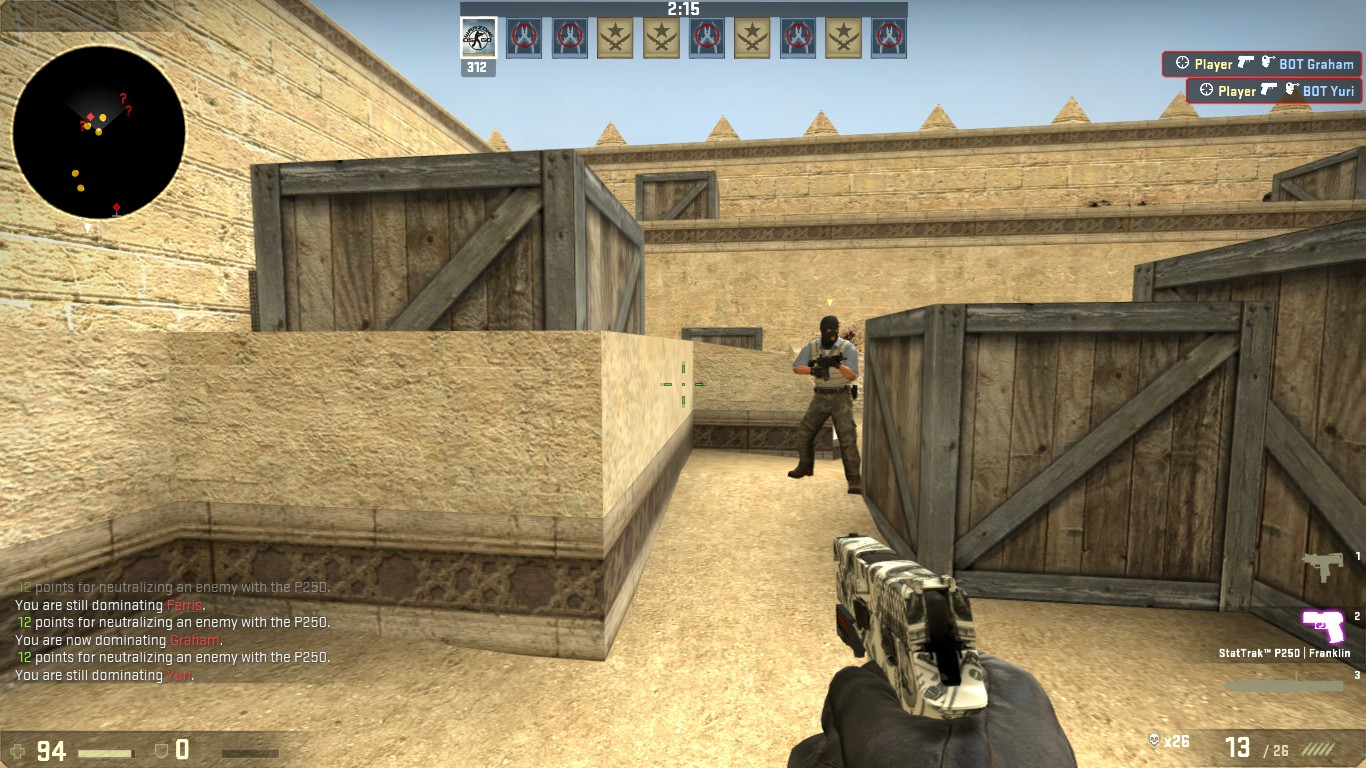t: (786, 310, 864, 495)
th: (814, 310, 845, 350)
